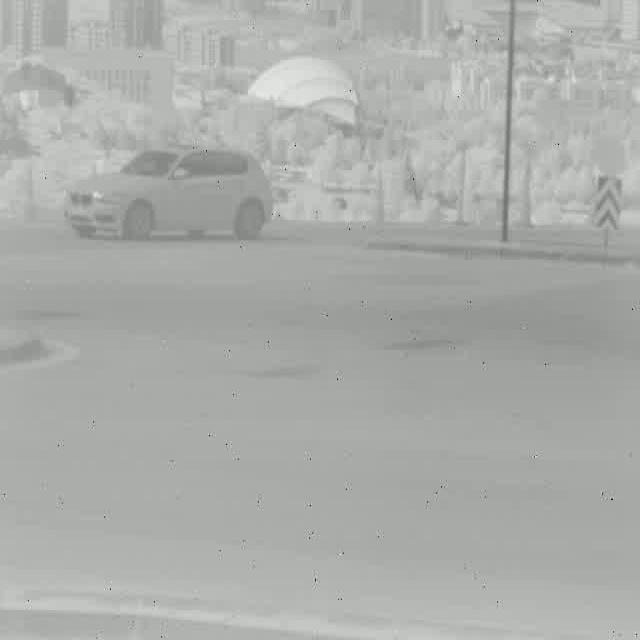Car: (63, 146, 273, 238)
